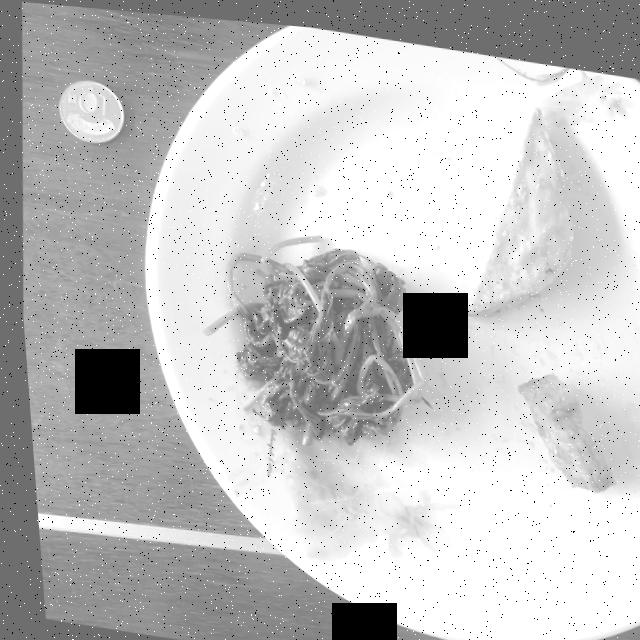coin: (57, 78, 122, 140)
creamy tofu: (513, 363, 609, 481)
sweet potato leaves: (221, 242, 418, 437)
